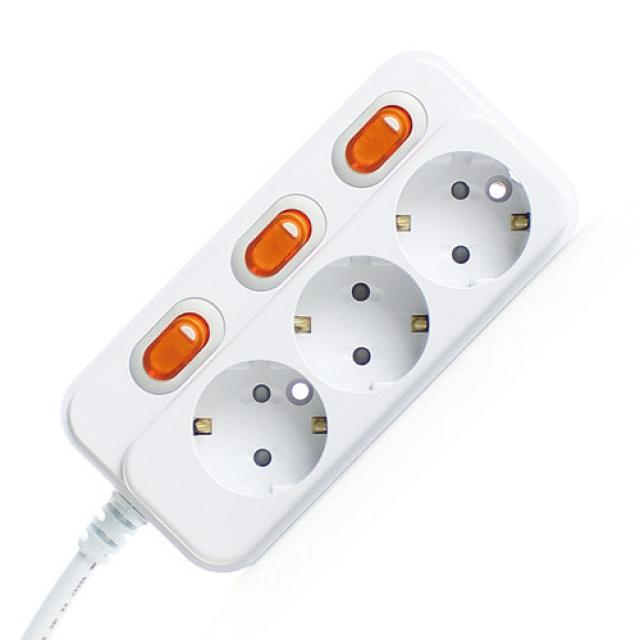typeb: (30, 46, 611, 585)
